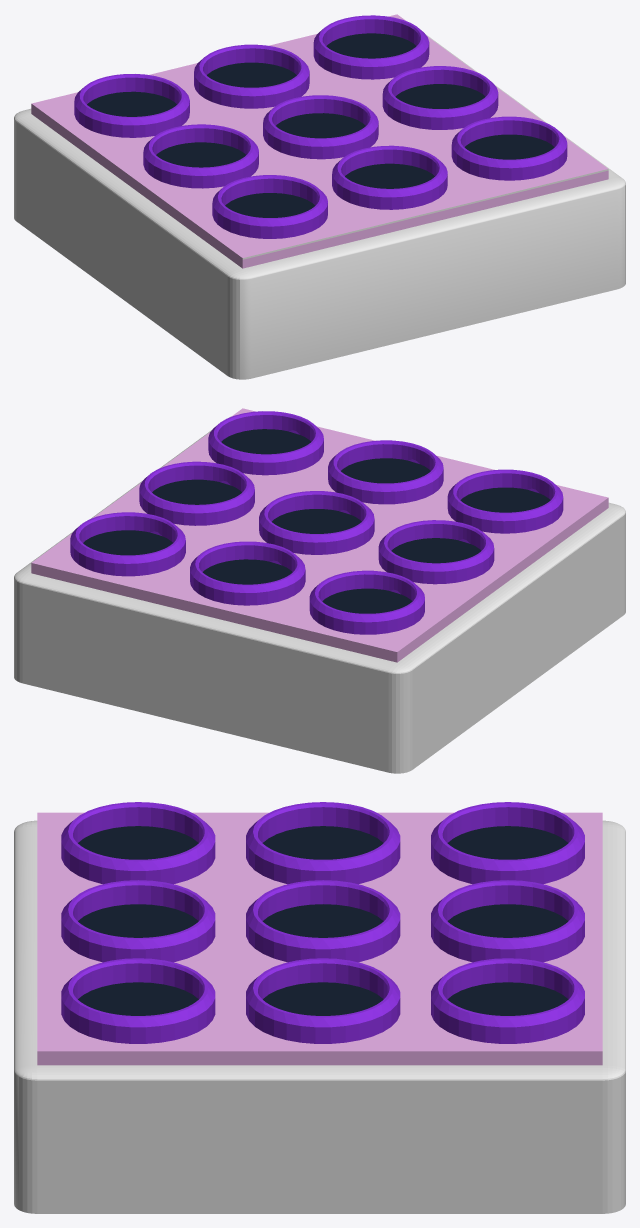
File: Gameboard_assets.fbx
The picture shows the model from 3 angles, top to bottom: view 1: azimuth 30°, elevation 25°; view 2: azimuth 150°, elevation 25°; view 3: azimuth 270°, elevation 25°; orthographic projection. The views are drawn at different scales.
Parts seen in each view (by area): view 1: Gameboard; view 2: Gameboard; view 3: Gameboard.
Part boxes in pixels (x1,y1,x2,y2): Gameboard: (14,14,625,379); Gameboard: (14,408,625,773); Gameboard: (14,802,625,1213).
Bounding box in the file's own units: 1600 × 508 × 1600.
